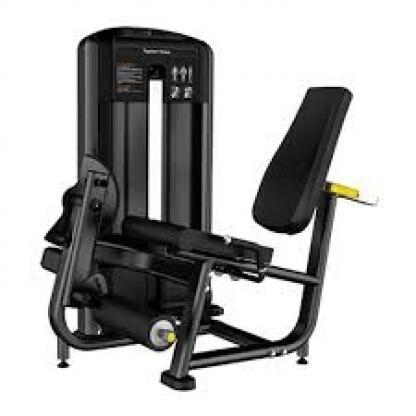leg extension: (30, 17, 384, 393)
